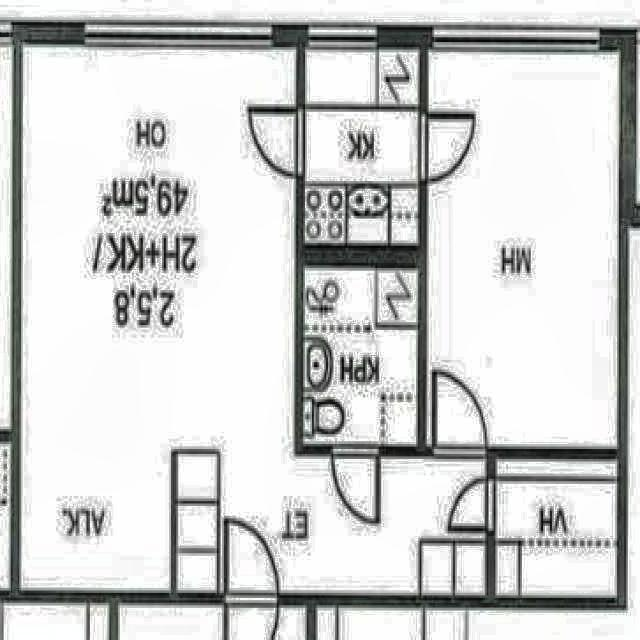room: (427, 53, 618, 445), (305, 50, 418, 243), (305, 268, 418, 445), (497, 461, 616, 596)
